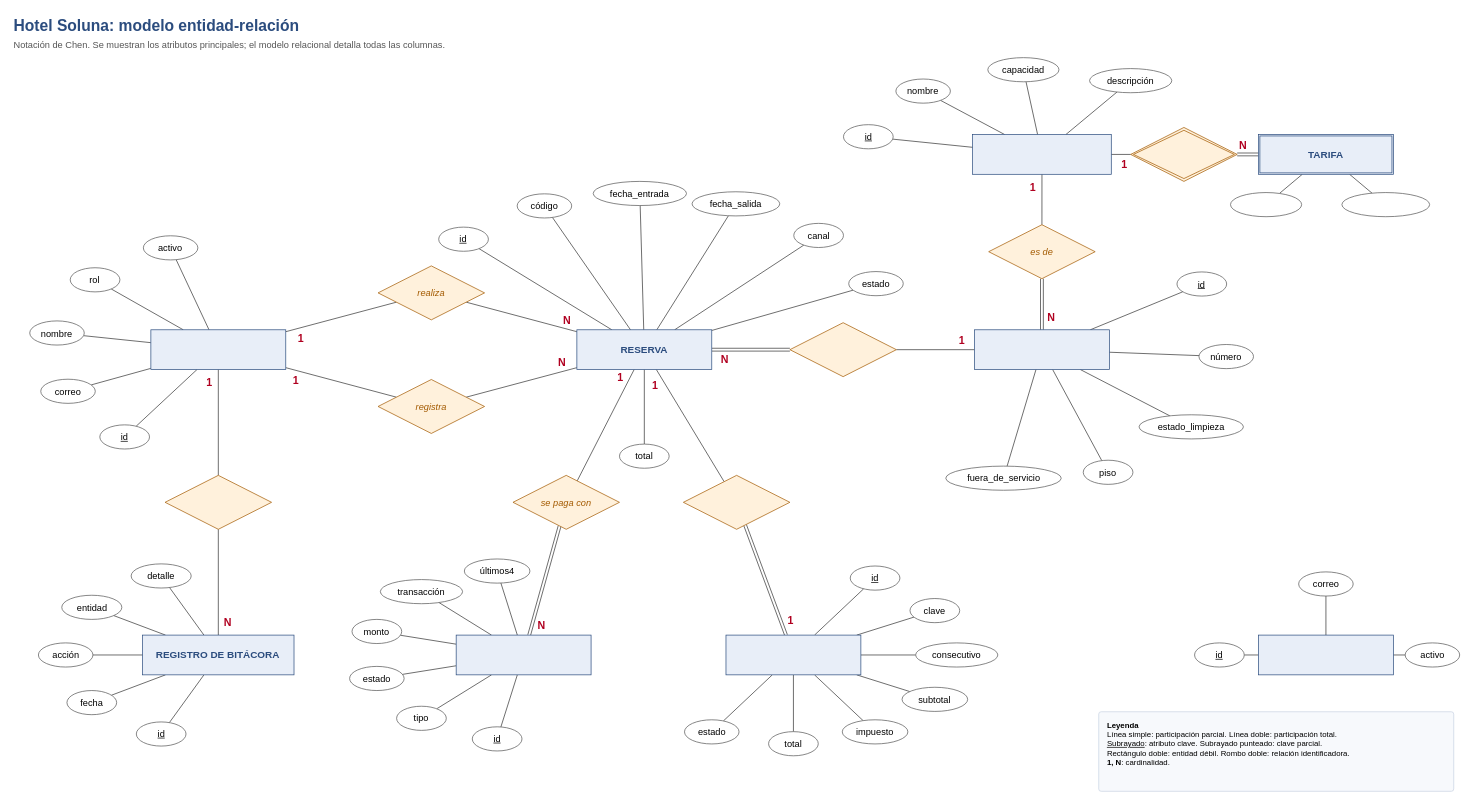
Some shapes in this 1472 by 804 pixel diagram are drawn without their labels. Each missing label, with the centre of its shape:
"deja" goes at [218,502].
"FACTURA" goes at [793,654].
"genera" goes at [736,502].
"HABITACIÓN" goes at [1041,349].
"ocupa" goes at [842,349].
"PAGO" goes at [523,654].
"precio_noche" goes at [1385,204].
"se cotiza" goes at [1183,154].
"SUSCRIPTOR" goes at [1325,654].
"temporada" goes at [1266,204].
"TIPO DE HABITACIÓN" goes at [1041,154].
"USUARIO" goes at [218,349].
